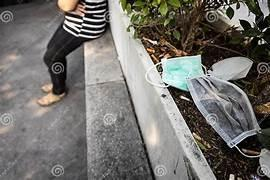Mask: (188, 75, 259, 147), (145, 55, 203, 90), (162, 55, 203, 90), (208, 57, 252, 80)
